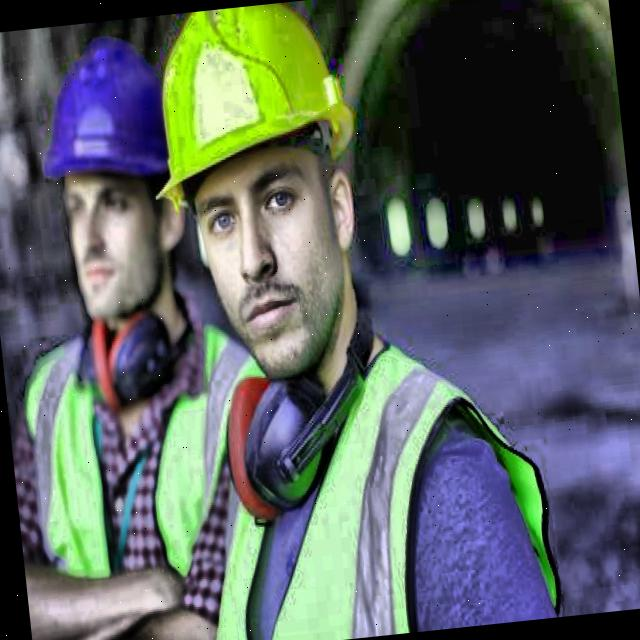helmet: (126, 0, 369, 391), (26, 30, 194, 348)
